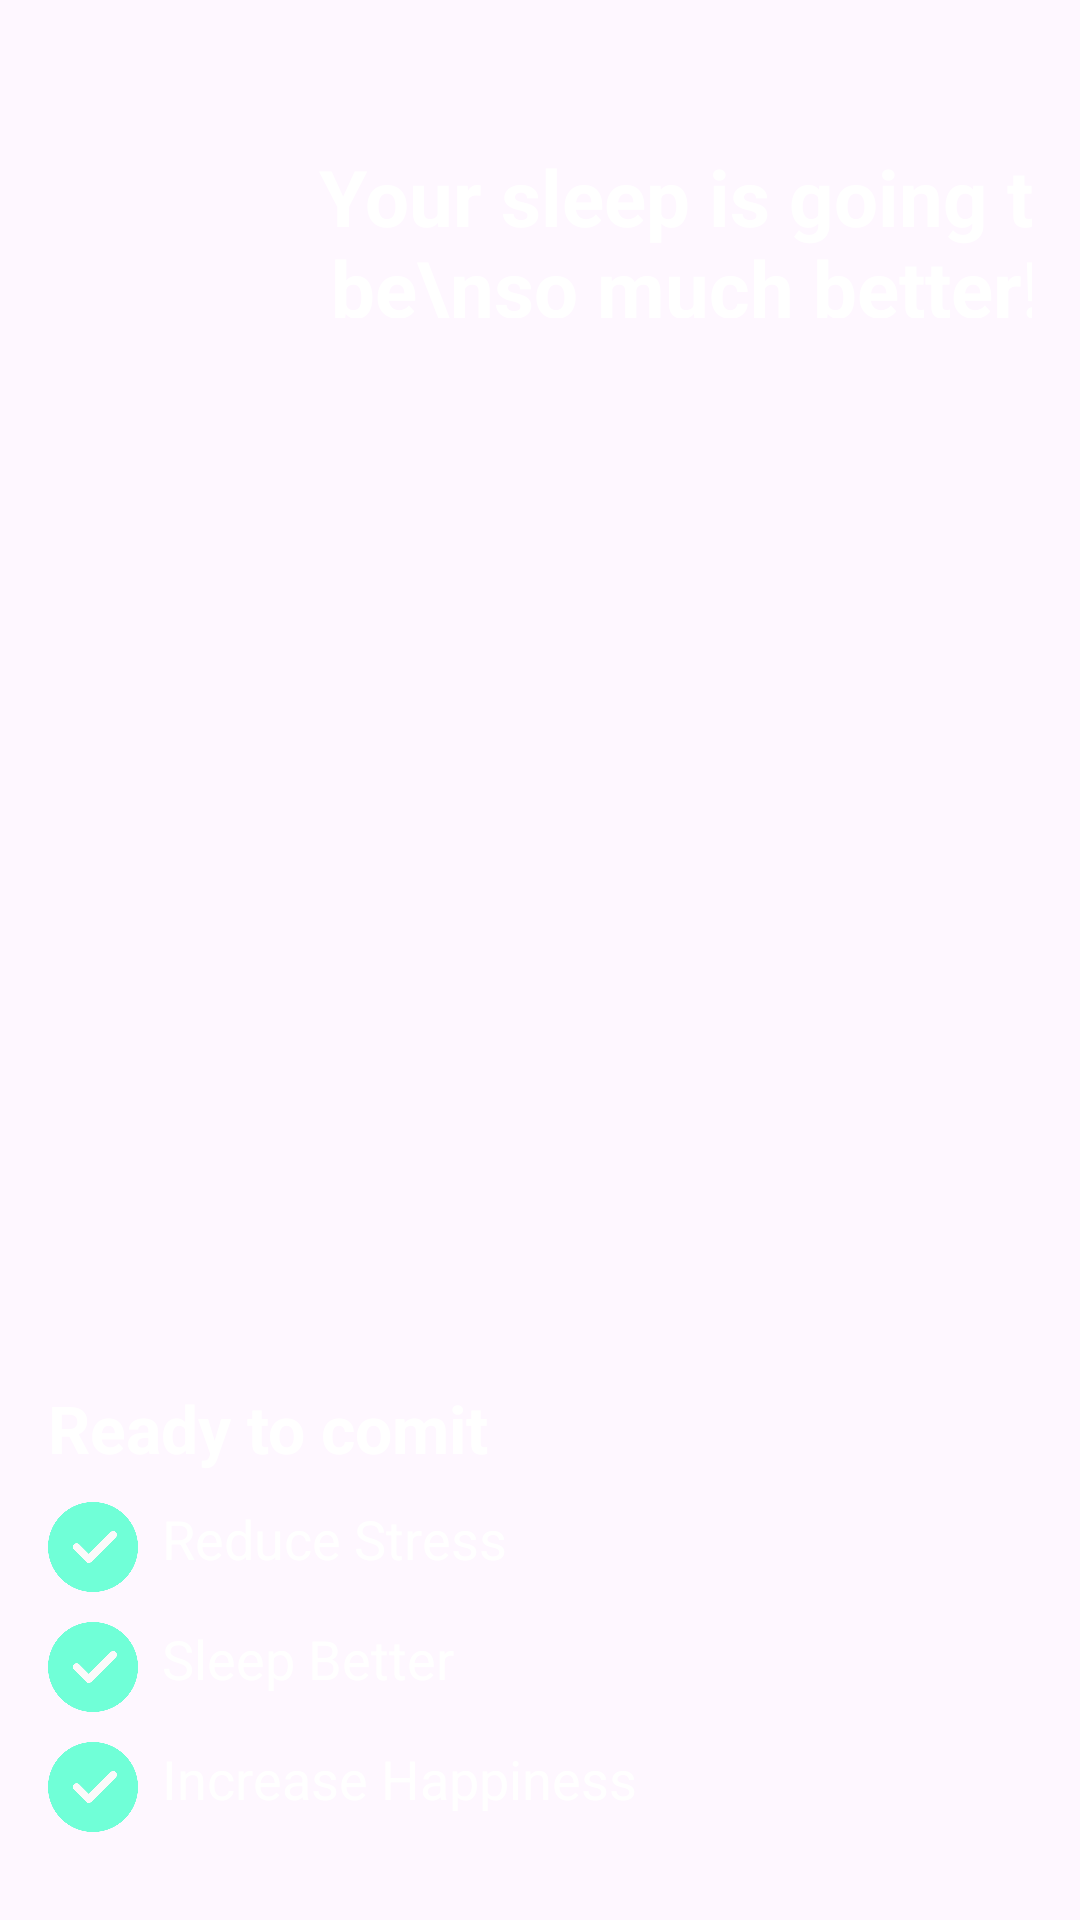

Icons on this 1080px×1920px Android screen, each with the point to tap as (x,y):
check: (93,1547), (93,1667), (93,1787)
